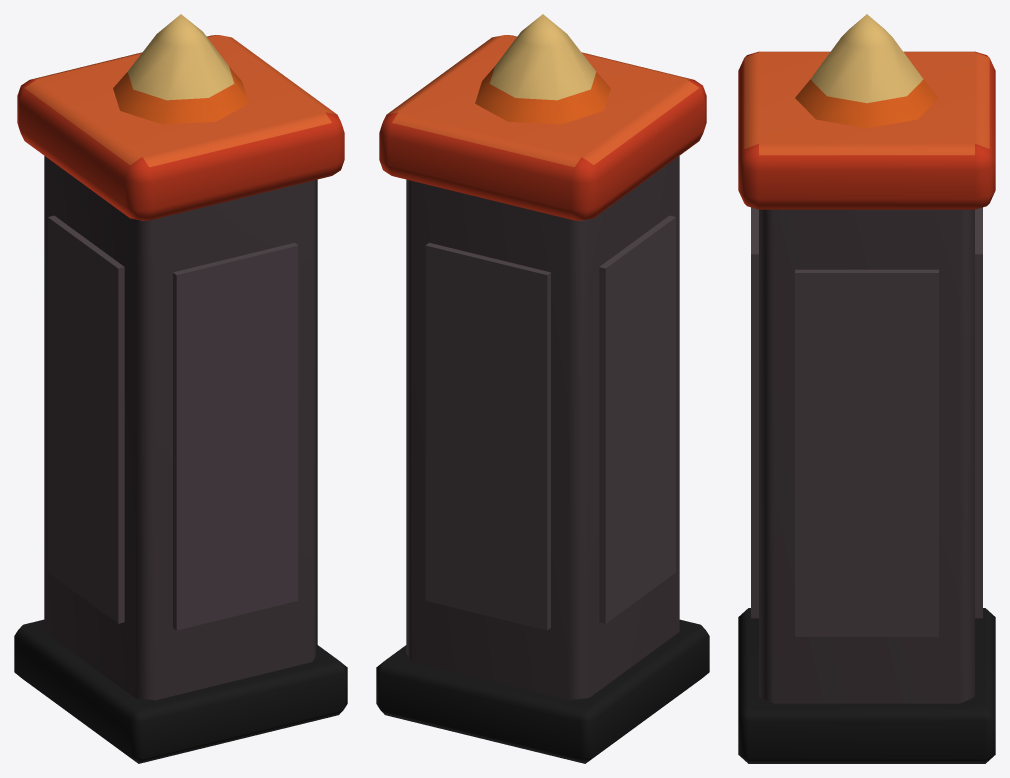
Rendered from candy-post.glb.
3 views of the same model, side by side, from view 1: azimuth 30°, elevation 25°; view 2: azimuth 150°, elevation 25°; view 3: azimuth 270°, elevation 25° (orthographic). The views are drawn at different scales.
Parts seen in each view (by area): view 1: candy-post; view 2: candy-post; view 3: candy-post.
Part boxes in pixels (box(x1,y1,x2,y2)): candy-post: box(14, 14, 347, 763); candy-post: box(376, 14, 709, 763); candy-post: box(738, 14, 995, 763).
Bounding box in the file's own units: 0.5 × 1.5 × 0.5.
